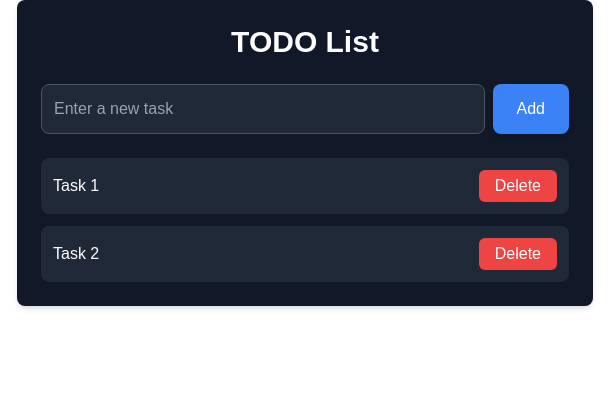
it: TodoPage › adds a new todo
The image size is (611, 395).
Type "Task 3" into the field with placeholder "Enter a new task" at (263, 109), box [41,84,484,134]
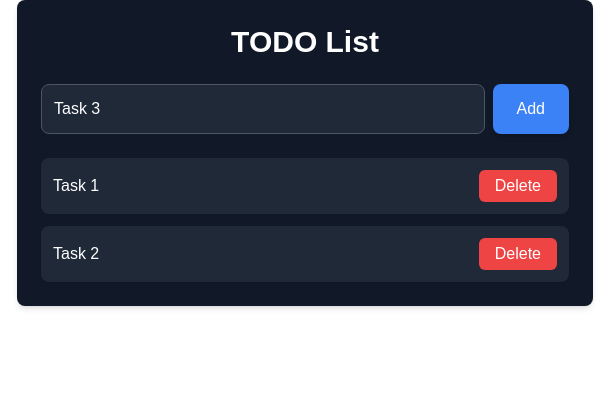
Click the button "Add" at (531, 109), box [492,84,569,134]
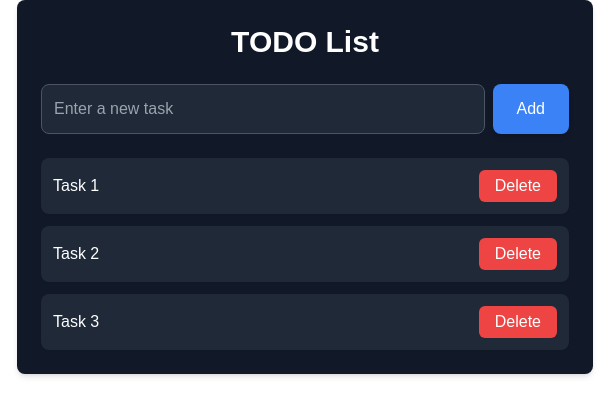
Now the number of list items is 3, box [41,158,569,214]; [41,226,569,282]; [41,294,569,350]
Now the text "Task 3" is shown, box [53,310,99,334]
